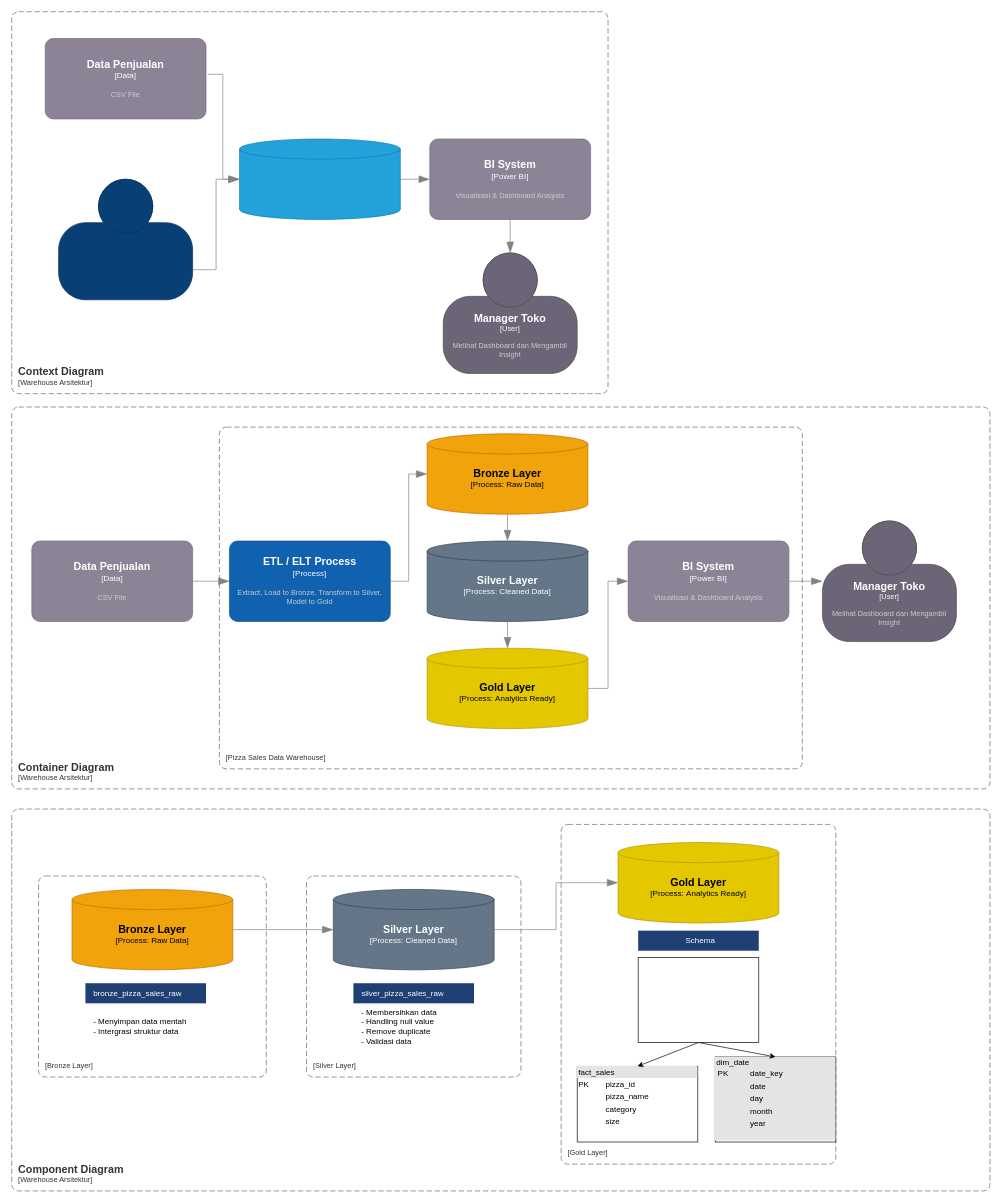
The diagram is 1002 pixels wide and 1203 high, and some of its shapes have lost their labels. The centre of each missing label's shape, as x and y in pixels:
Data Engineer [Administrator] Mengelola ETL/ELT dan Data Warehouse: (x=125, y=239)
fact_sales PK order_id FK1 pizza_id FK2 date_key quantity total_price: (x=698, y=1000)
Pizza Sales [Container: MySQL] Data Warehouse: (x=319, y=178)
